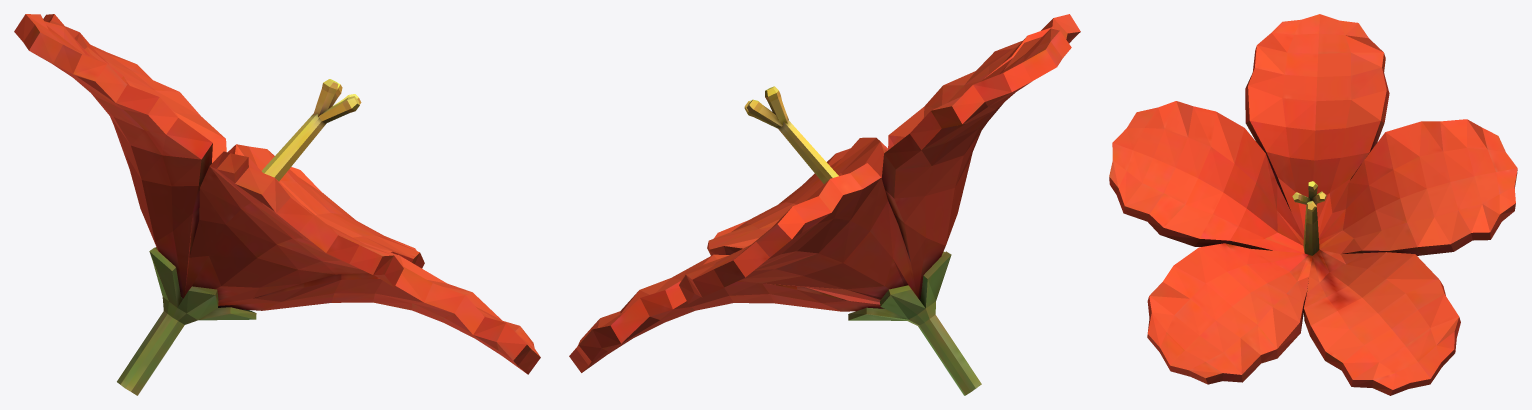
The model's file is flowerFg.glb.
The picture shows the model from 3 angles, left to right: view 1: azimuth 30°, elevation 25°; view 2: azimuth 150°, elevation 25°; view 3: azimuth 270°, elevation 25°; orthographic projection. The views are drawn at different scales.
Visible parts, largest first — view 1: hibiscus_flower; view 2: hibiscus_flower; view 3: hibiscus_flower.
Boxes of the visible parts, x1,y1,x2,y2 form: hibiscus_flower: [14, 14, 540, 395]; hibiscus_flower: [569, 14, 1080, 395]; hibiscus_flower: [1109, 14, 1517, 395].
Size of the model in its own units: 1.39 by 1.17 by 1.71.
1 material, 1 textured.
